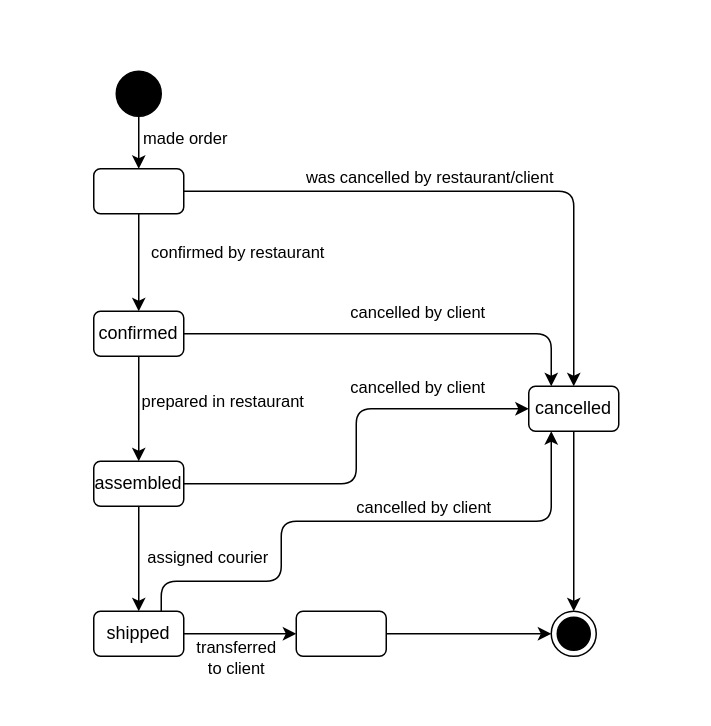
This 711x726 diagram has some shape labels left out. Each missing label, with the centre of its shape:
"completed" goes at point 340,633.
"paid" goes at point 138,190.
